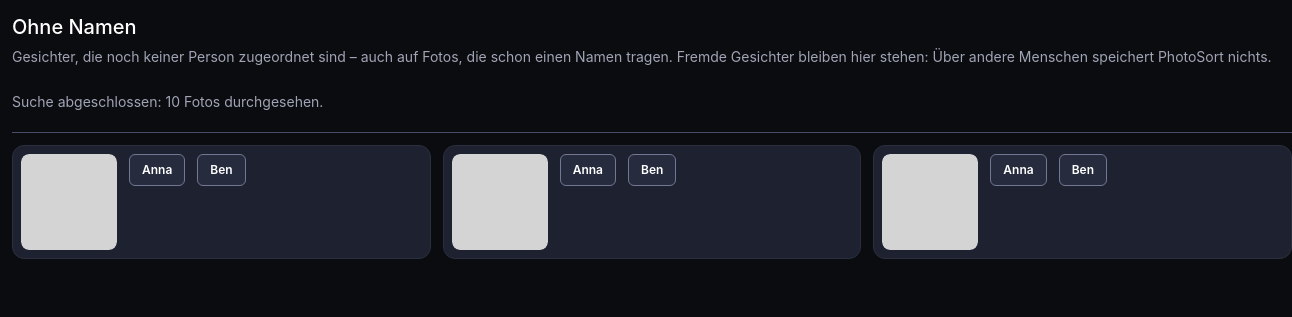
Scenario: UnnamedFacesGroup - Ablehnungen › lässt die Karte stehen und zeigt "Diese Person hat auf diesem Foto schon ein Gesicht." ohne Namen
Click the button with aria-label "Zuordnen: Anna". click: (157, 170)
box: [129,154,185,186]
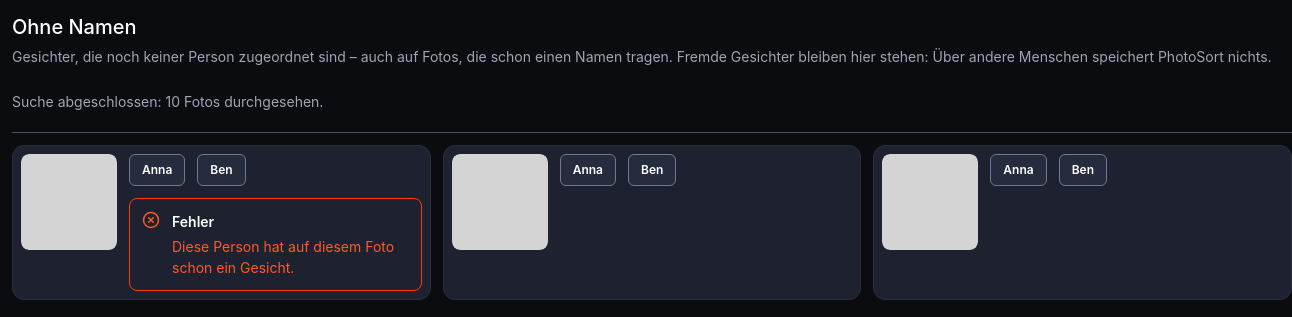
Expected: the message shows "Diese Person hat auf diesem Foto schon ein Gesicht.", [172,238,394,276]
